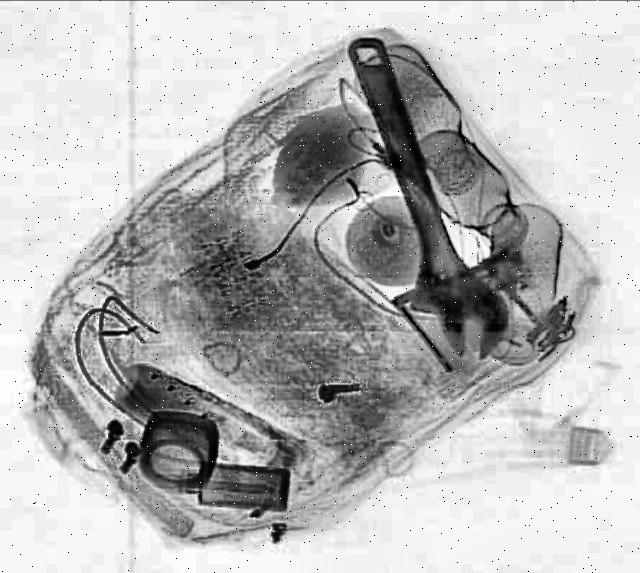Wrench: (317, 25, 521, 368)
